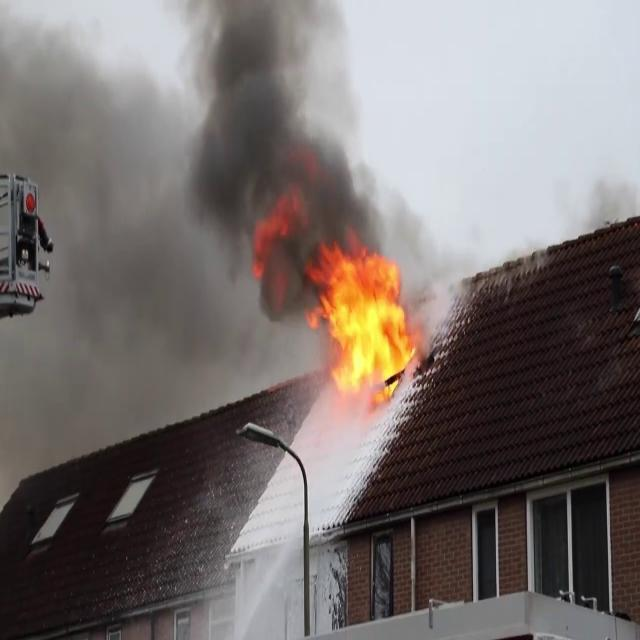Fire: (306, 244, 421, 398)
Smoke: (170, 1, 390, 287), (585, 164, 638, 240)
